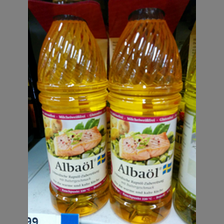oil: (108, 1, 183, 224), (37, 1, 109, 217)
